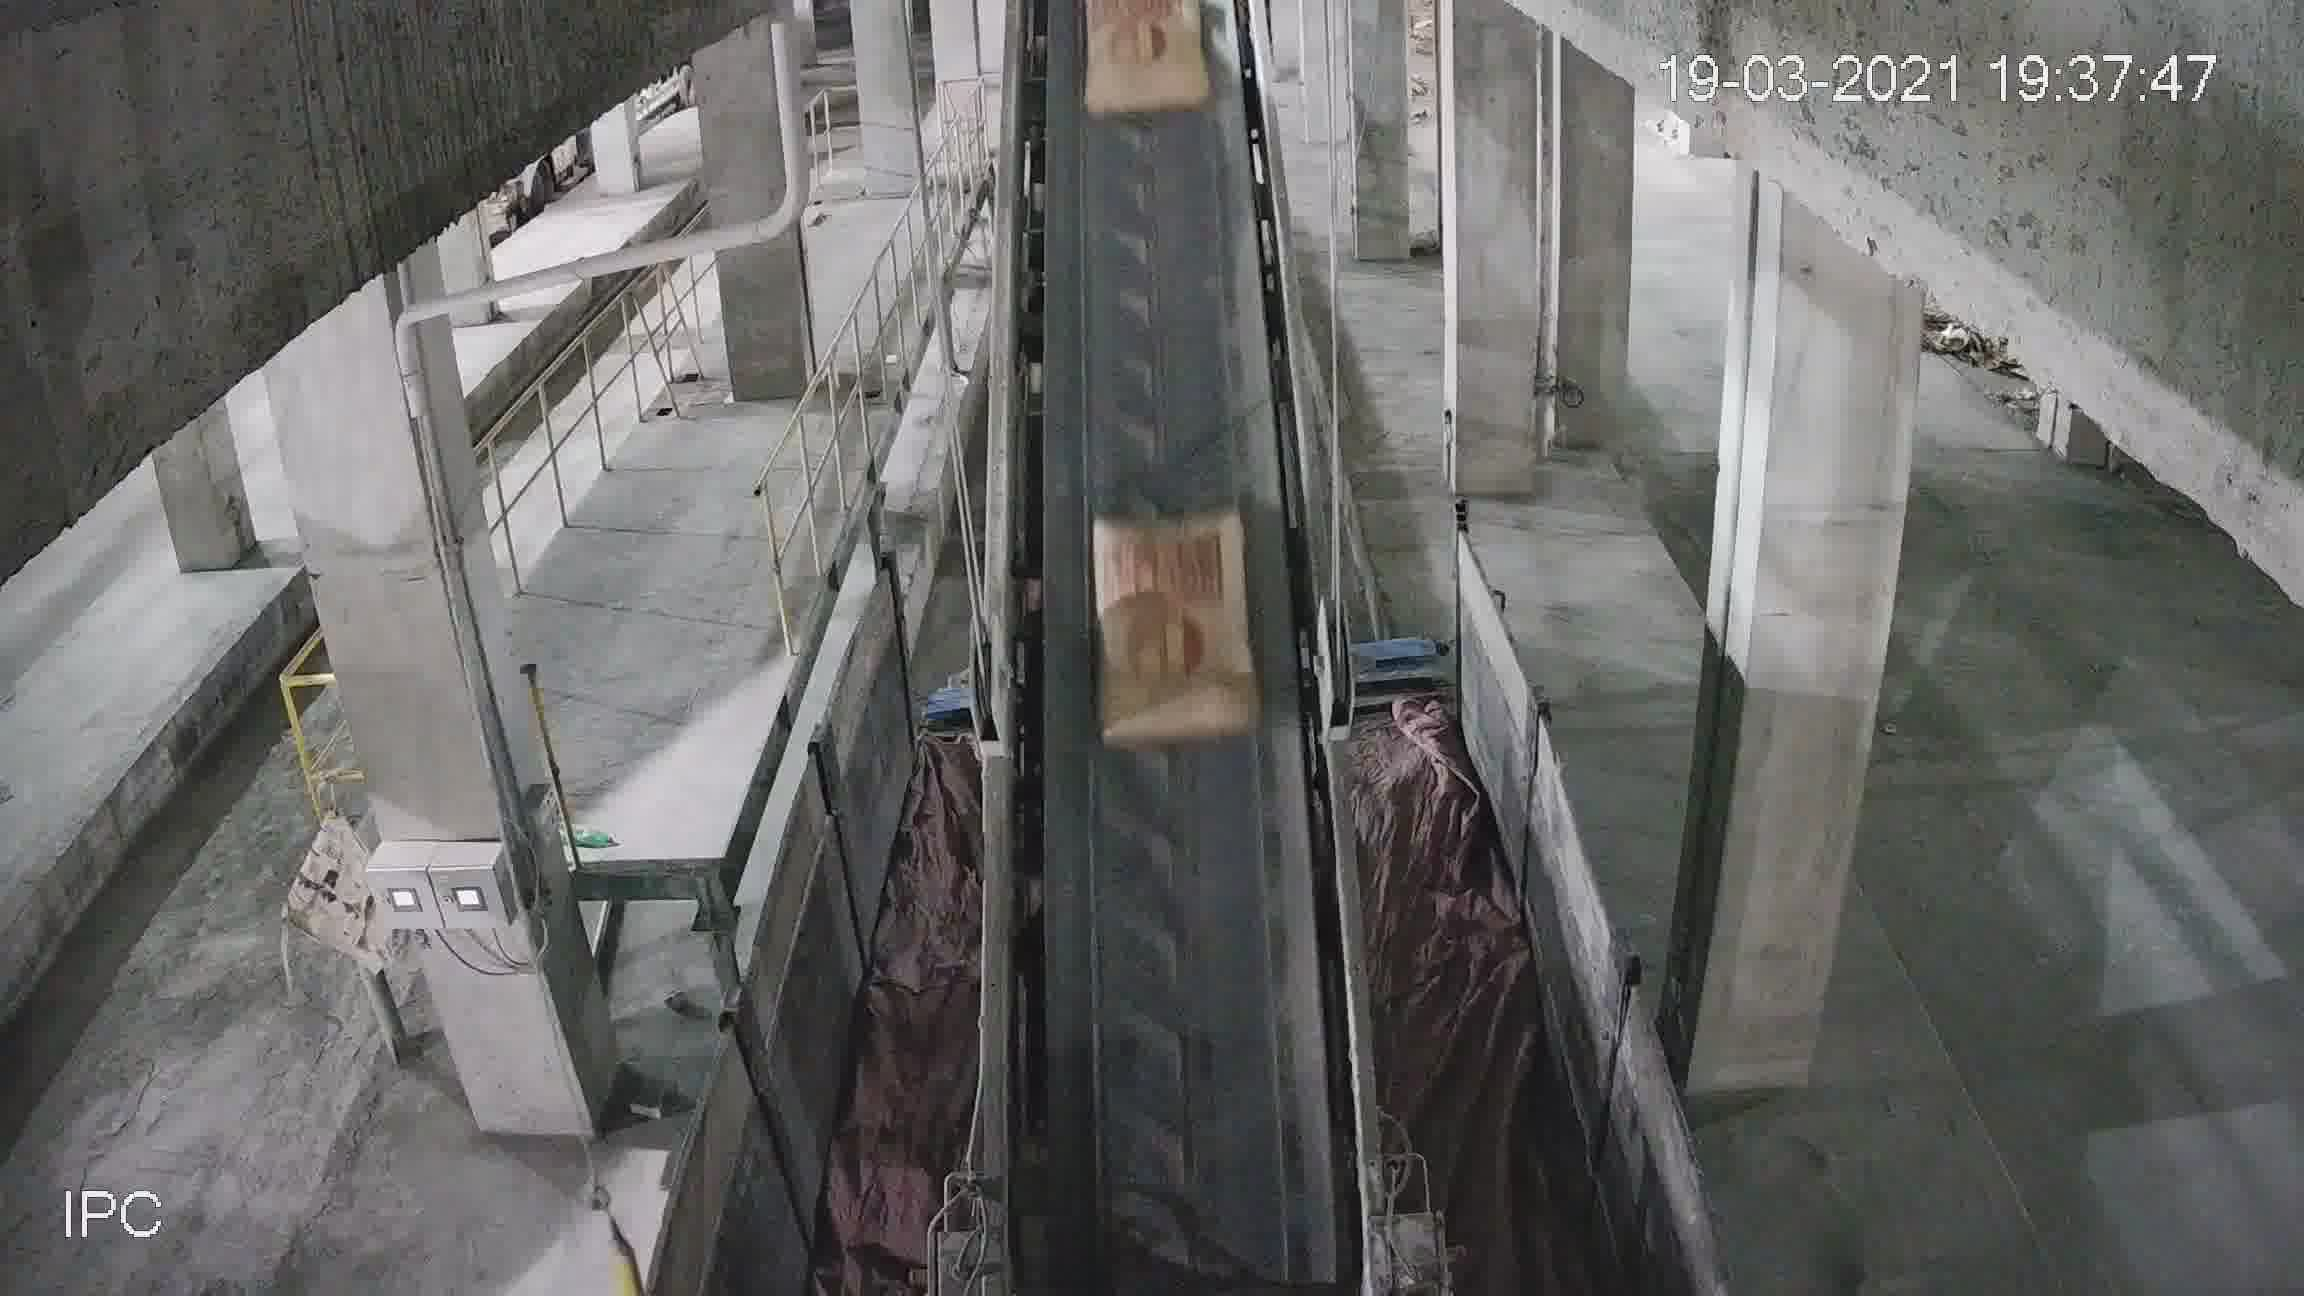bag: (1095, 513, 1256, 745), (1081, 13, 1207, 111)
belt: (984, 74, 1343, 1139)
